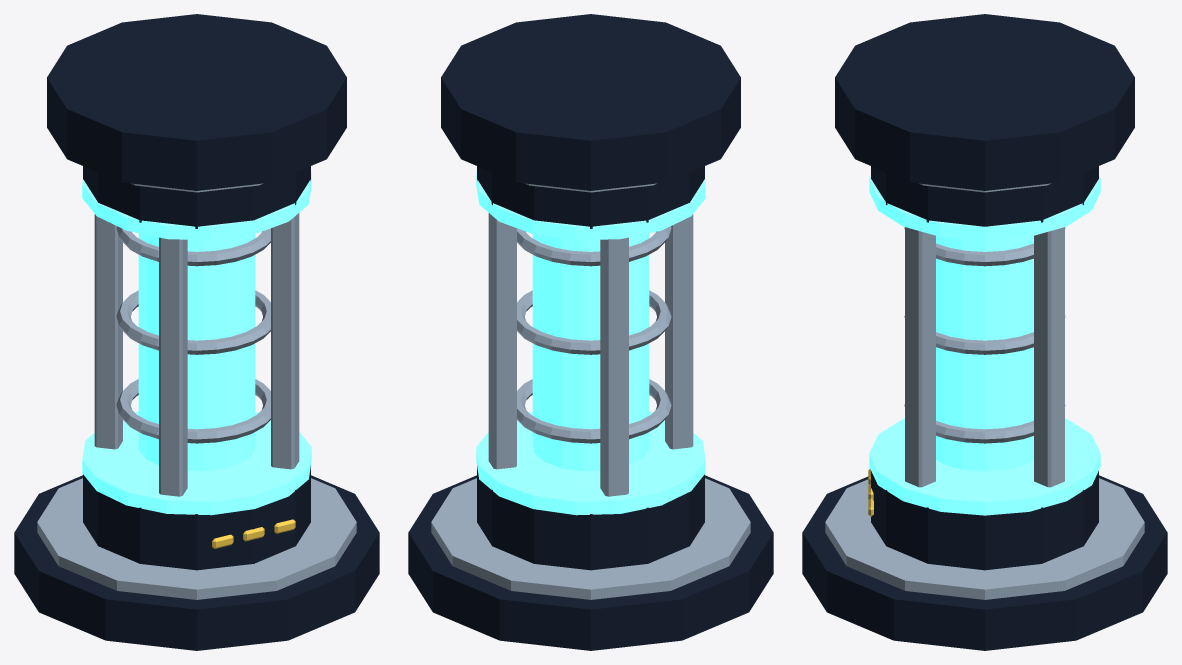
The model's file is reactor_beacon.fbx.
3 views of the same model, side by side, from view 1: azimuth 30°, elevation 25°; view 2: azimuth 150°, elevation 25°; view 3: azimuth 270°, elevation 25° (orthographic).
Parts seen in each view (by area): view 1: GEO-Cap, GEO-Foot, GEO-Core, GEO-FootTrim, GEO-LowerHousing, GEO-LowerLight, GEO-CagePost03, GEO-TopHousing, GEO-CagePost04, GEO-CagePost02, GEO-UpperLight, GEO-CoreRing01 (+2 smaller); view 2: GEO-Cap, GEO-Foot, GEO-Core, GEO-FootTrim, GEO-LowerHousing, GEO-LowerLight, GEO-CagePost02, GEO-TopHousing, GEO-CagePost01, GEO-CagePost03, GEO-UpperLight, GEO-CoreRing01 (+2 smaller); view 3: GEO-Cap, GEO-Foot, GEO-Core, GEO-FootTrim, GEO-LowerHousing, GEO-LowerLight, GEO-CagePost01, GEO-CagePost04, GEO-TopHousing, GEO-UpperLight, GEO-CoreRing01, GEO-CoreRing02 (+1 smaller).
Boxes of the visible parts, x1=… form: GEO-Cap: x1=47, y1=14, x2=346, y2=190; GEO-Foot: x1=14, y1=475, x2=379, y2=650; GEO-Core: x1=138, y1=233, x2=255, y2=471; GEO-FootTrim: x1=37, y1=478, x2=356, y2=599; GEO-LowerHousing: x1=83, y1=466, x2=310, y2=570; GEO-LowerLight: x1=82, y1=411, x2=311, y2=515; GEO-CagePost03: x1=159, y1=237, x2=187, y2=496; GEO-TopHousing: x1=83, y1=166, x2=310, y2=228; GEO-CagePost04: x1=271, y1=213, x2=299, y2=469; GEO-CagePost02: x1=94, y1=214, x2=122, y2=449; GEO-UpperLight: x1=82, y1=171, x2=311, y2=240; GEO-CoreRing01: x1=116, y1=379, x2=270, y2=443; GEO-Cap: x1=441, y1=14, x2=740, y2=190; GEO-Foot: x1=408, y1=475, x2=773, y2=650; GEO-Core: x1=532, y1=233, x2=649, y2=471; GEO-FootTrim: x1=431, y1=478, x2=750, y2=599; GEO-LowerHousing: x1=477, y1=466, x2=704, y2=570; GEO-LowerLight: x1=476, y1=411, x2=705, y2=515; GEO-CagePost02: x1=600, y1=237, x2=628, y2=496; GEO-TopHousing: x1=477, y1=166, x2=704, y2=228; GEO-CagePost01: x1=488, y1=213, x2=516, y2=469; GEO-CagePost03: x1=665, y1=214, x2=693, y2=449; GEO-UpperLight: x1=476, y1=171, x2=705, y2=240; GEO-CoreRing01: x1=517, y1=379, x2=671, y2=443; GEO-Cap: x1=835, y1=14, x2=1134, y2=190; GEO-Foot: x1=802, y1=475, x2=1167, y2=650; GEO-Core: x1=936, y1=236, x2=1033, y2=471; GEO-FootTrim: x1=825, y1=478, x2=1144, y2=599; GEO-LowerHousing: x1=871, y1=471, x2=1098, y2=570; GEO-LowerLight: x1=869, y1=418, x2=1100, y2=515; GEO-CagePost01: x1=1034, y1=227, x2=1064, y2=487; GEO-CagePost04: x1=905, y1=227, x2=935, y2=487; GEO-TopHousing: x1=871, y1=166, x2=1098, y2=226; GEO-UpperLight: x1=869, y1=175, x2=1100, y2=240; GEO-CoreRing01: x1=904, y1=404, x2=1065, y2=443; GEO-CoreRing02: x1=904, y1=316, x2=1065, y2=354.
Size of the model in its own units: 1.12 by 1.68 by 1.12.
